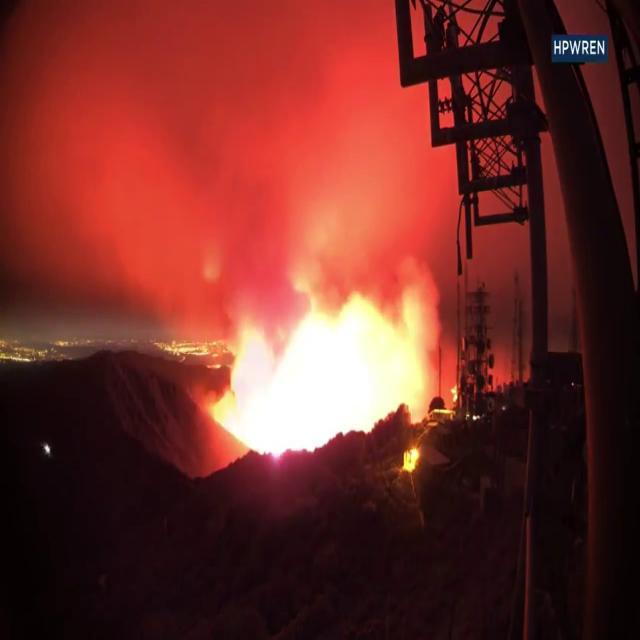Fire: (211, 279, 443, 461), (450, 383, 458, 403)
Smoke: (9, 17, 558, 228)
